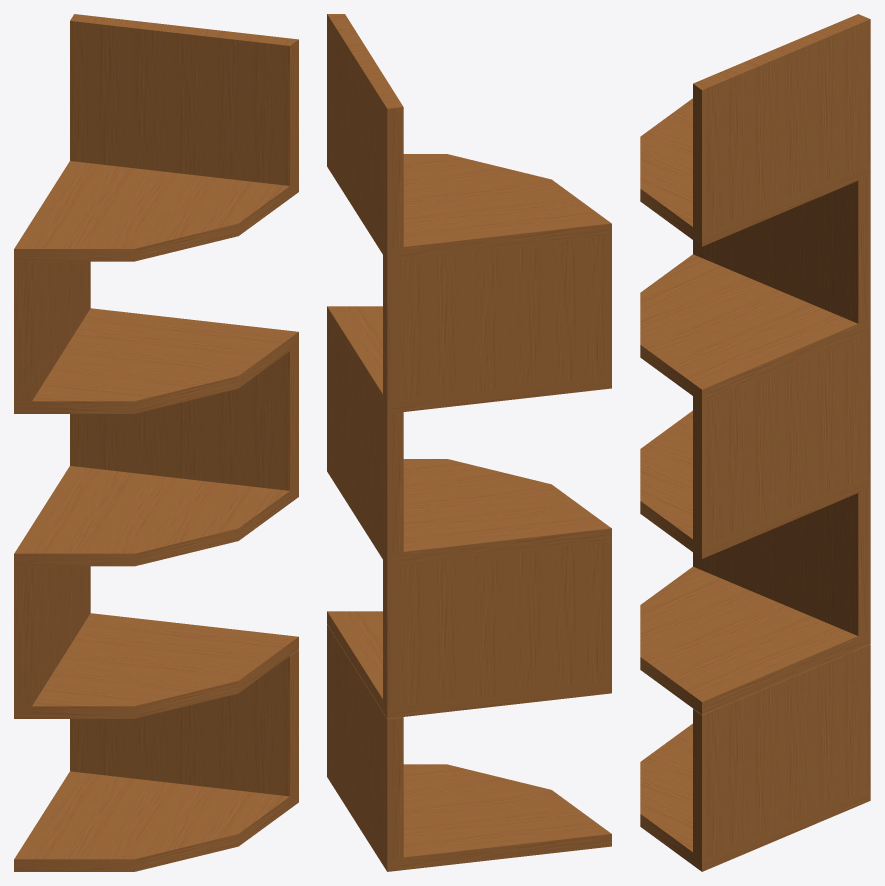
Rendered from Corner_Shelving_09.FBX.
The picture shows the model from 3 angles, left to right: view 1: azimuth 30°, elevation 25°; view 2: azimuth 150°, elevation 25°; view 3: azimuth 270°, elevation 25°; orthographic projection. The views are drawn at different scales.
Parts seen in each view (by area): view 1: Corner_Shelving; view 2: Corner_Shelving; view 3: Corner_Shelving.
Boxes of the visible parts, x1=… form: Corner_Shelving: x1=14, y1=14, x2=298, y2=871; Corner_Shelving: x1=327, y1=14, x2=611, y2=871; Corner_Shelving: x1=640, y1=14, x2=870, y2=871.
Size of the model in its own units: 141 by 362 by 96.59.
